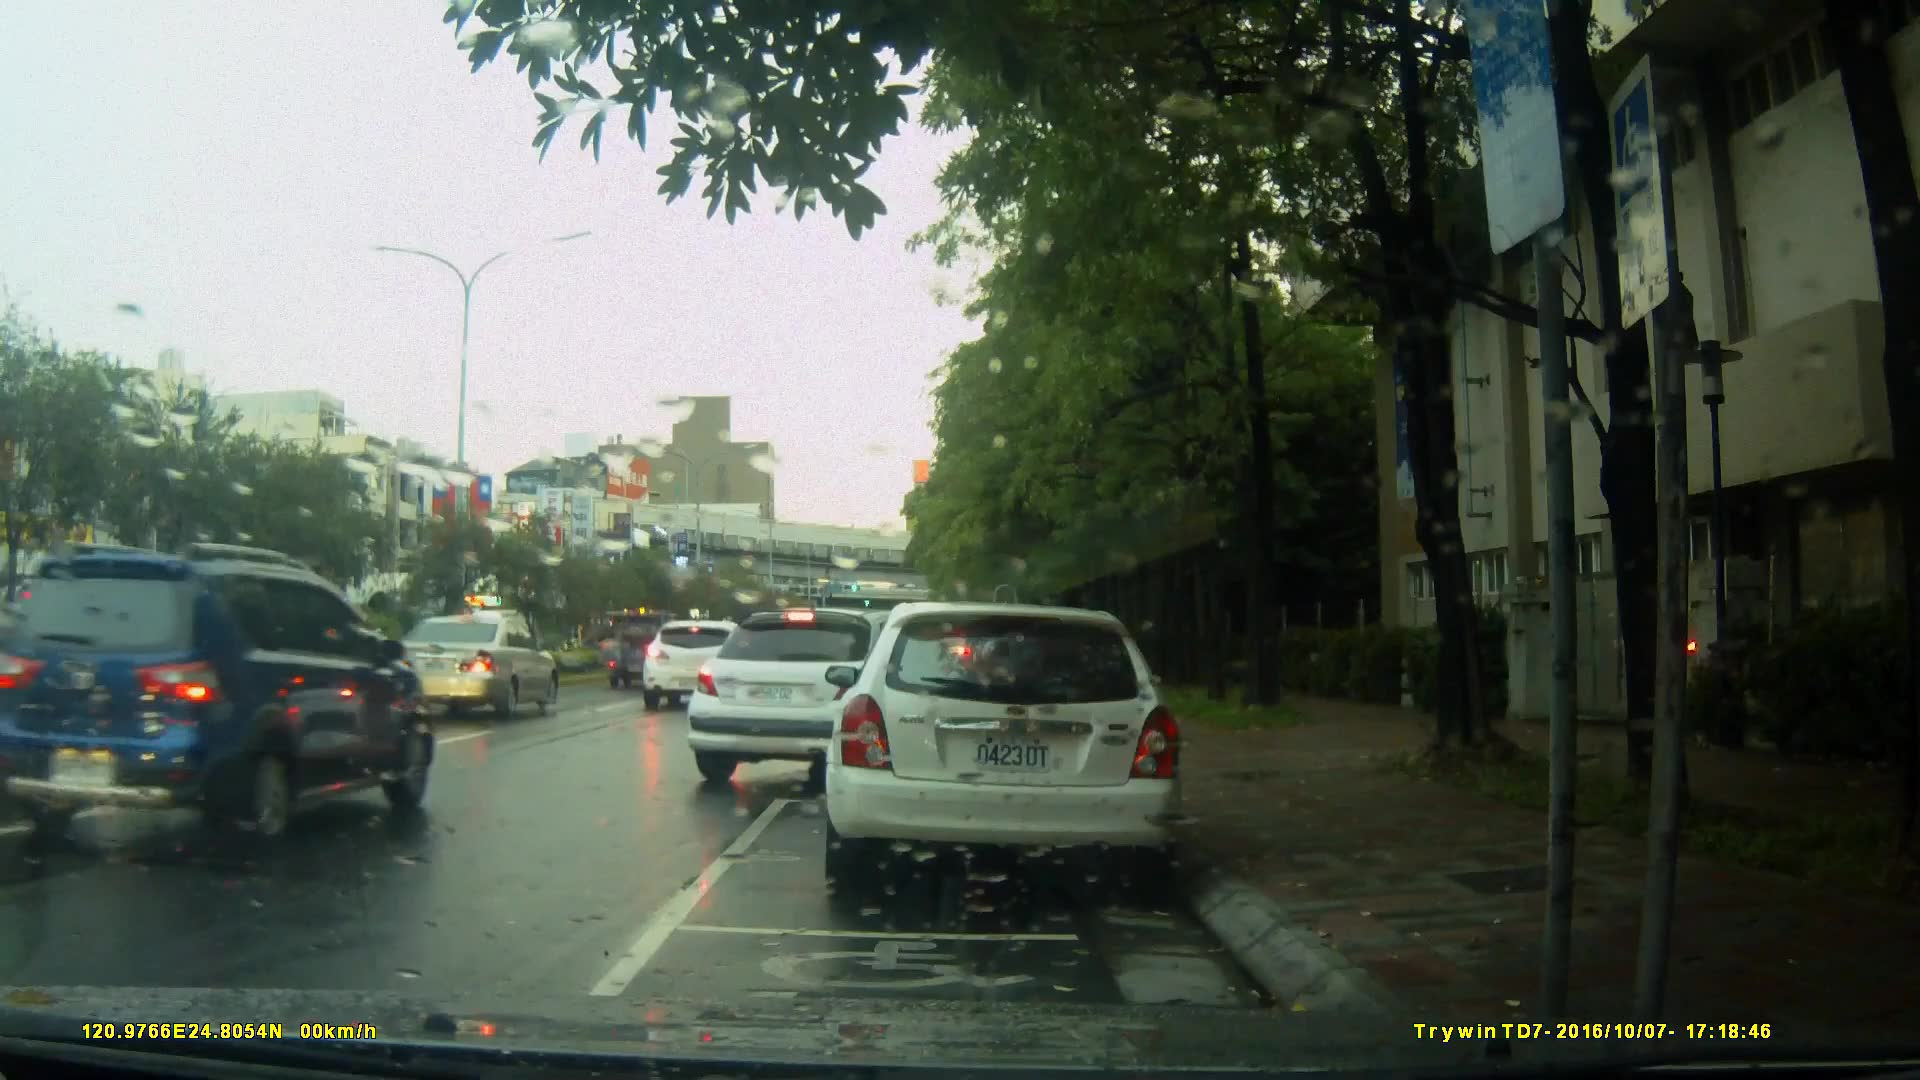vehicle: (13, 541, 438, 853), (820, 603, 1188, 898), (684, 607, 982, 795), (371, 613, 560, 723), (640, 617, 753, 713)
